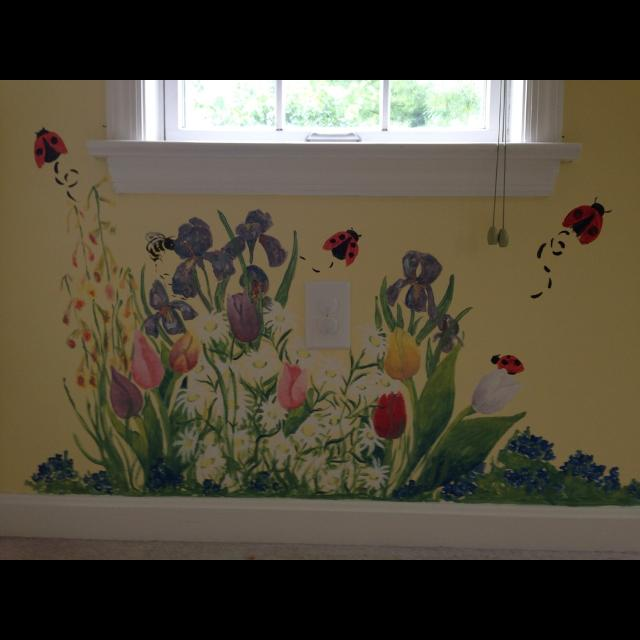Flower: (170, 297, 386, 483), (172, 218, 232, 300), (222, 210, 282, 272), (390, 251, 438, 321), (368, 392, 410, 451), (382, 323, 424, 381), (470, 367, 520, 415), (228, 288, 262, 346), (110, 366, 148, 416), (279, 363, 315, 413), (132, 334, 162, 391), (170, 328, 200, 370)
